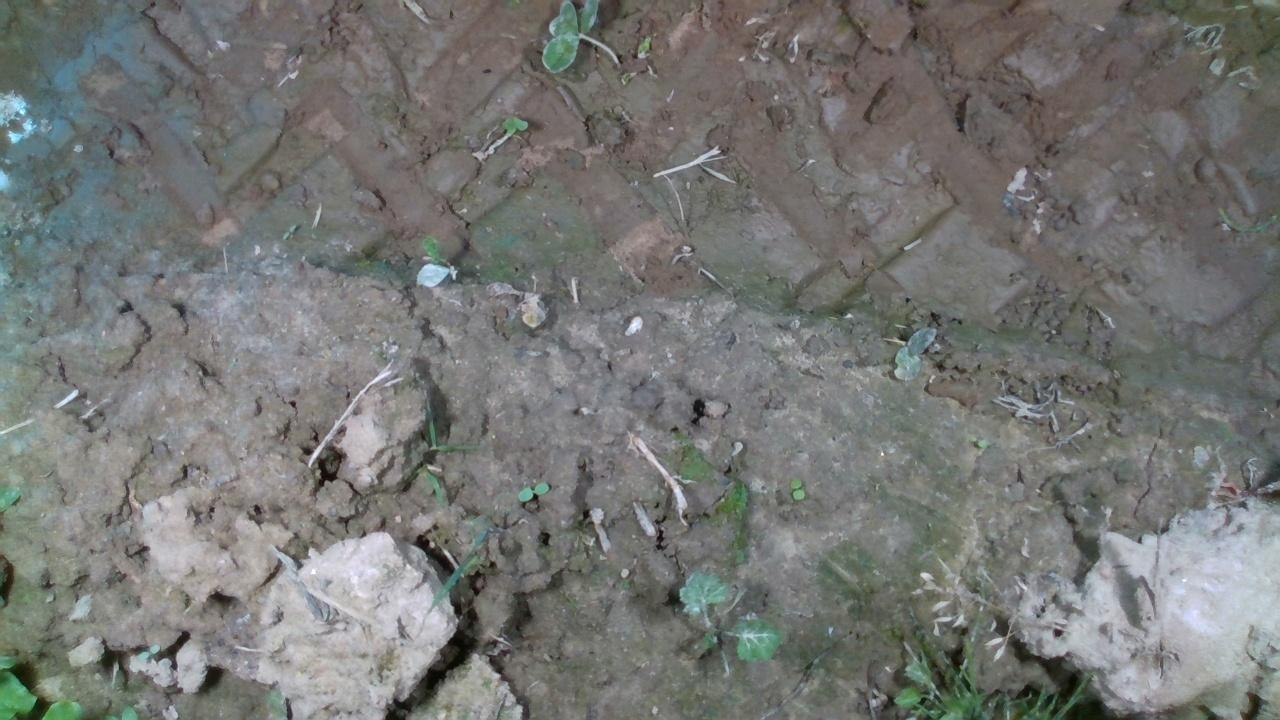weed: (789, 477, 804, 502)
